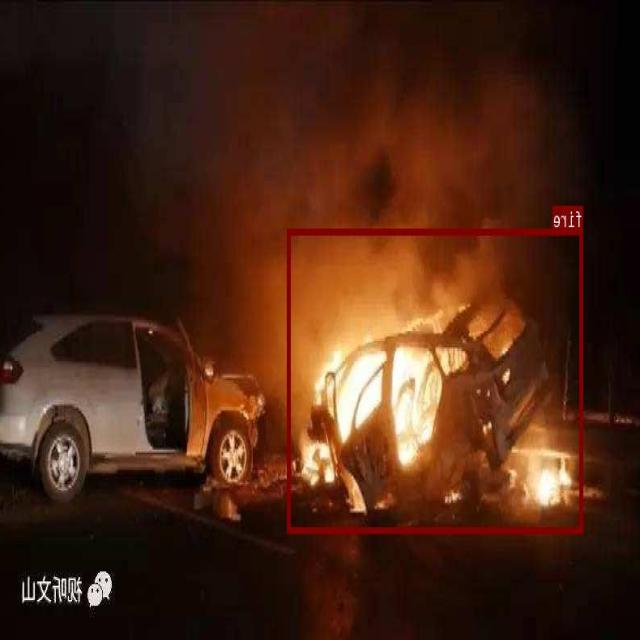fire: (288, 228, 584, 532)
